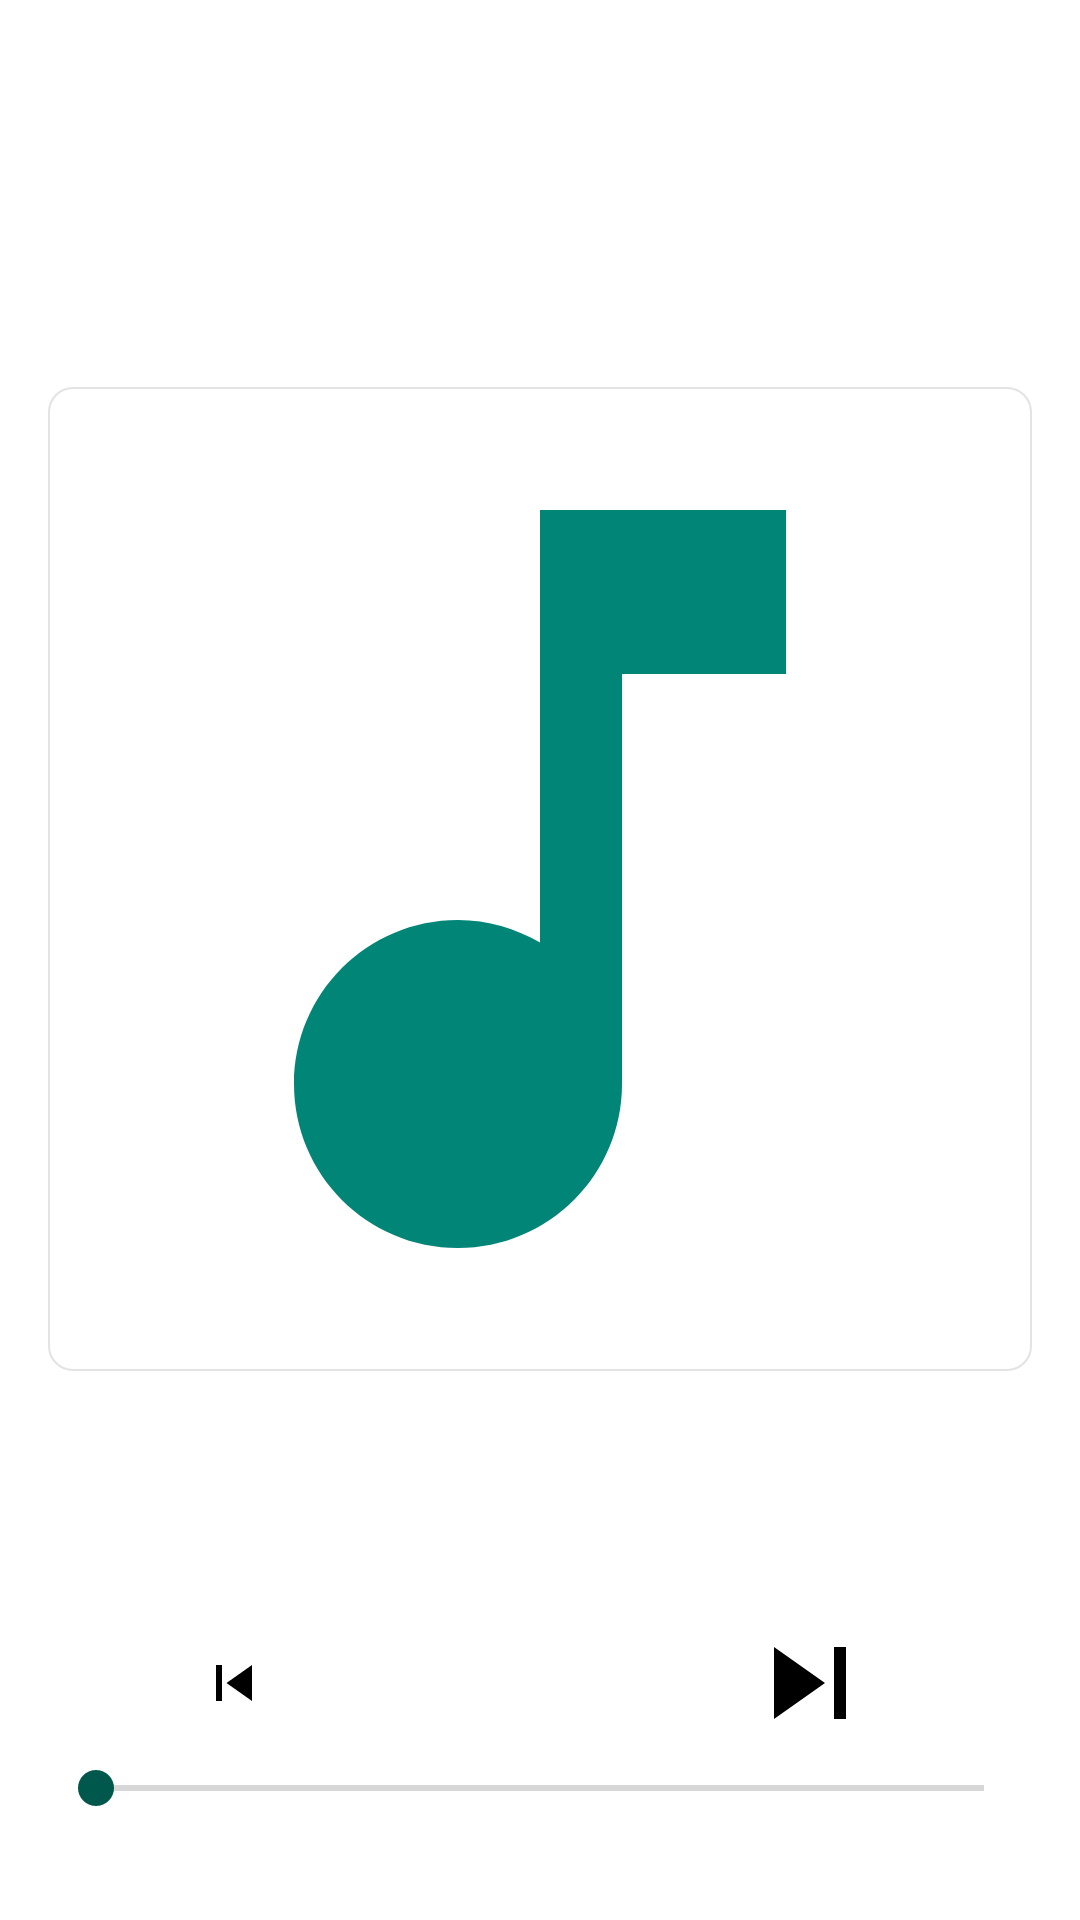

Icons on this 1080×1920 Android screen, each with its box as region(x1, y1, x2, y2):
next: region(774, 1647, 846, 1719)
previous: region(216, 1665, 252, 1701)
